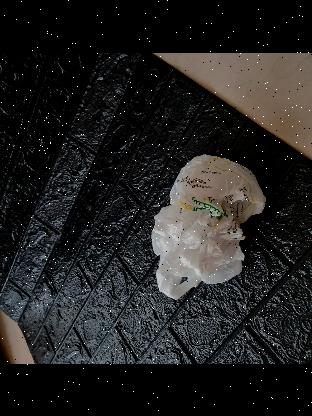Others: (152, 154, 268, 296)
